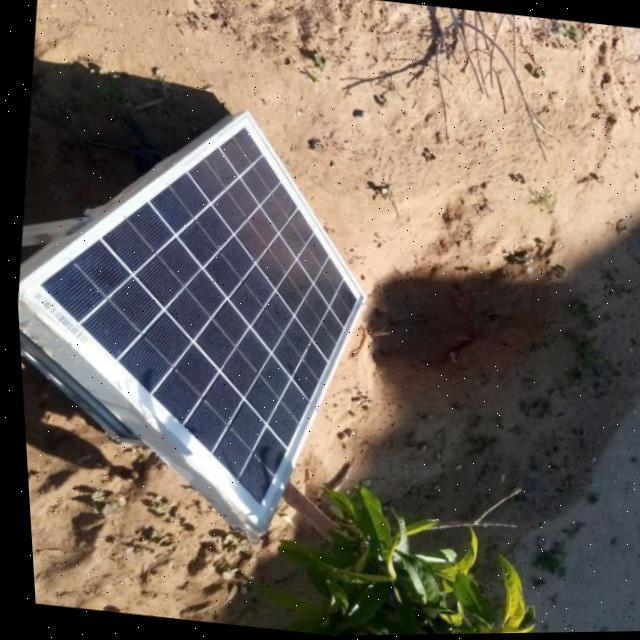Normal Solar Panel: (4, 86, 390, 545)
